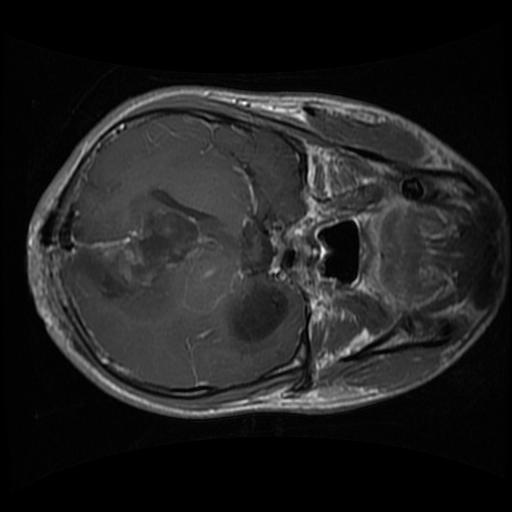glioma: (65, 187, 222, 319)
